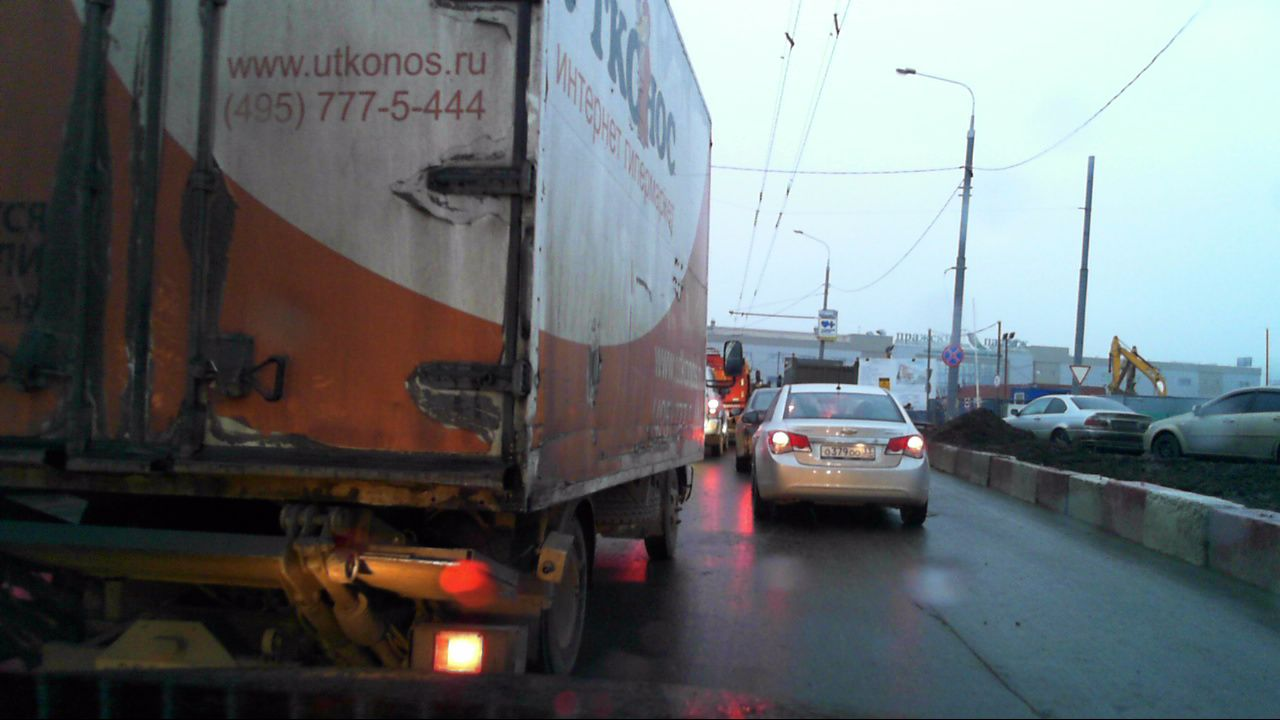No Parking: (941, 345, 964, 368)
